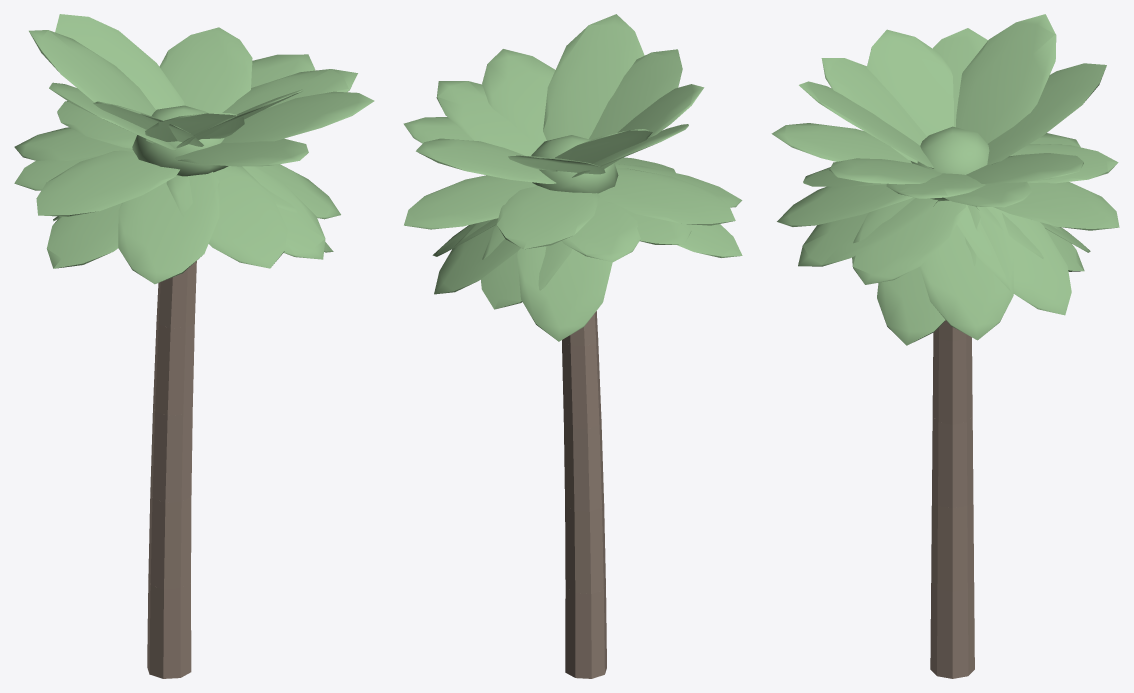
Rendered from tree-palm-fan-b.glb.
The picture shows the model from 3 angles, left to right: view 1: azimuth 30°, elevation 25°; view 2: azimuth 150°, elevation 25°; view 3: azimuth 270°, elevation 25°; orthographic projection. The views are drawn at different scales.
Parts seen in each view (by area): view 1: tree-palm-fan-b; view 2: tree-palm-fan-b; view 3: tree-palm-fan-b.
Boxes of the visible parts, box(x1,y1,x2,y2) form: tree-palm-fan-b: box(14, 14, 374, 678); tree-palm-fan-b: box(403, 14, 742, 678); tree-palm-fan-b: box(771, 14, 1119, 678).
Size of the model in its own units: 0.5289 by 1 by 0.5163.
